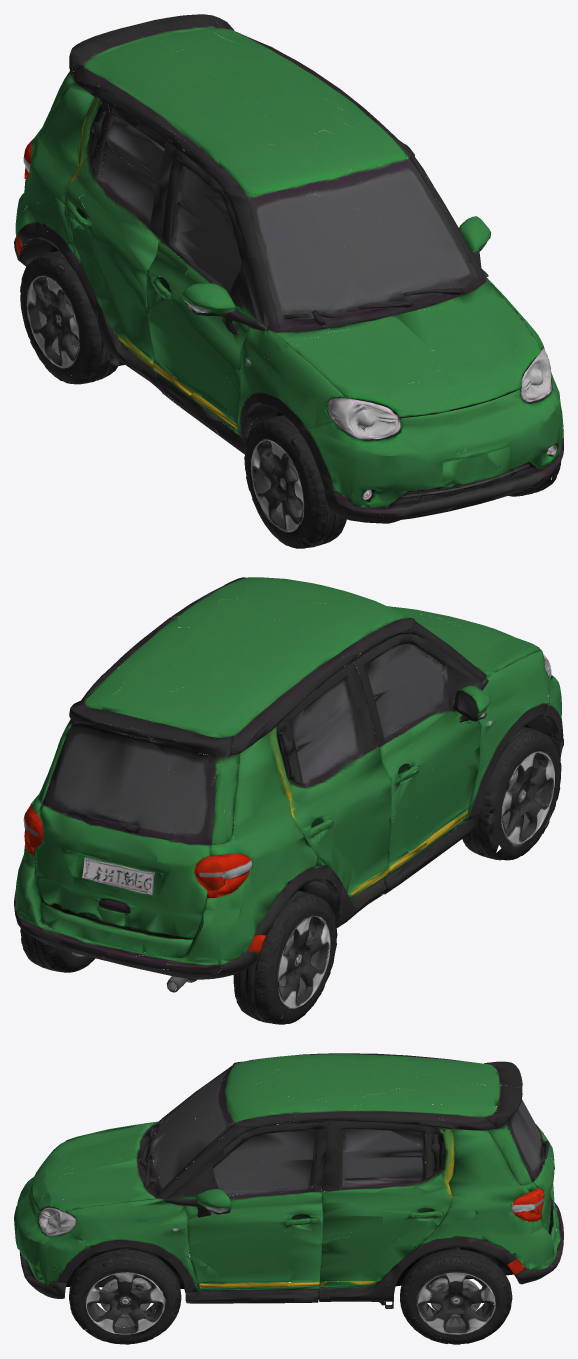
Rendered from car-v3.glb.
3 renders of one model, top to bottom at view 1: azimuth 30°, elevation 25°; view 2: azimuth 150°, elevation 25°; view 3: azimuth 270°, elevation 25°, orthographic. The views are drawn at different scales.
Parts seen in each view (by area): view 1: tripo_node_9b9f6ad5-422e-434e-a2a9-1cb2b21f625d, TireMesh.002, TireMesh; view 2: tripo_node_9b9f6ad5-422e-434e-a2a9-1cb2b21f625d, TireMesh, TireMesh.002; view 3: tripo_node_9b9f6ad5-422e-434e-a2a9-1cb2b21f625d, TireMesh.001, TireMesh.003.
Boxes of the visible parts, x1,y1,x2,y2 form: tripo_node_9b9f6ad5-422e-434e-a2a9-1cb2b21f625d: (14,14,563,548); TireMesh.002: (23,254,111,384); TireMesh: (244,415,309,548); tripo_node_9b9f6ad5-422e-434e-a2a9-1cb2b21f625d: (14,577,563,1024); TireMesh: (476,729,559,860); TireMesh.002: (273,891,337,1023); tripo_node_9b9f6ad5-422e-434e-a2a9-1cb2b21f625d: (14,1053,563,1341); TireMesh.001: (78,1251,179,1344); TireMesh.003: (400,1251,499,1344).
Bounding box in the file's own units: 1.94 × 1.89 × 4.2.
Materials: 1 (1 with a texture image).
